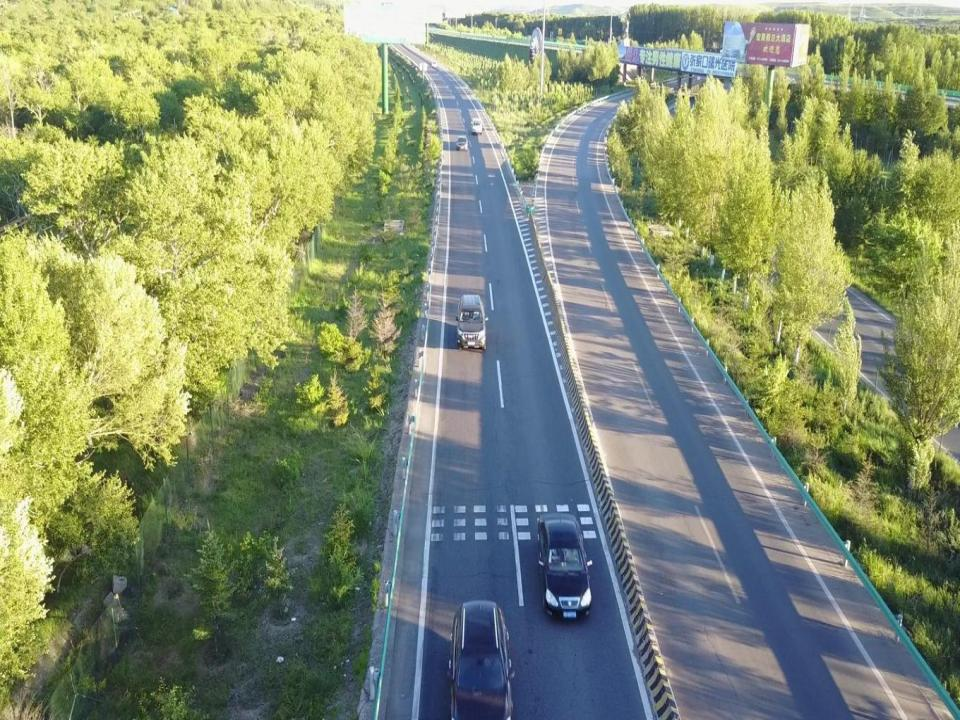car: (447, 599, 513, 720), (537, 512, 592, 621), (455, 294, 488, 350), (471, 117, 483, 134), (455, 136, 468, 150), (431, 61, 437, 68)
